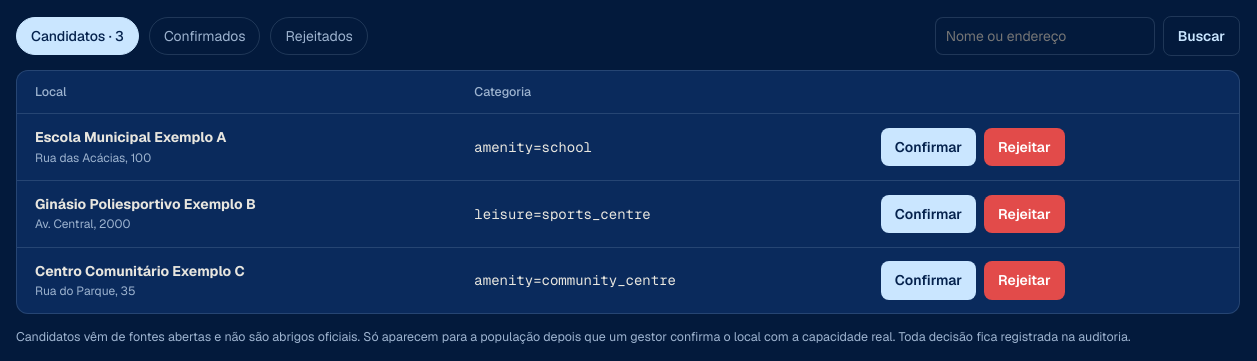
Test: Revisão de abrigos › lista os candidatos, com o total na aba, e filtra pela busca
Expected: the text "Escola Municipal Exemplo A" is shown, 35,128 -> 226,146
Expected: the text "Ginásio Poliesportivo Exemplo B" is shown, 35,195 -> 256,213
In the search field named "Buscar por nome ou endereço": (1045, 36) 935,17 -> 1155,55, type "ginásio"
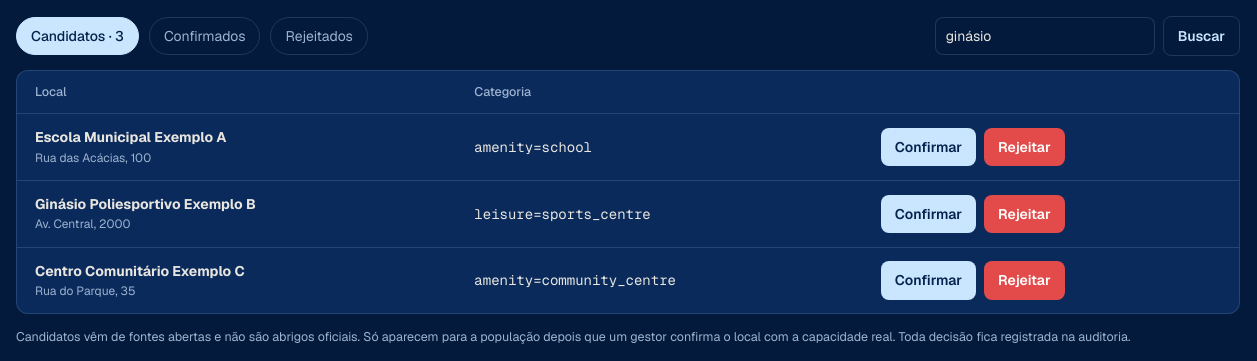
Click the button "Buscar": (1201, 36) 1163,16 -> 1240,56
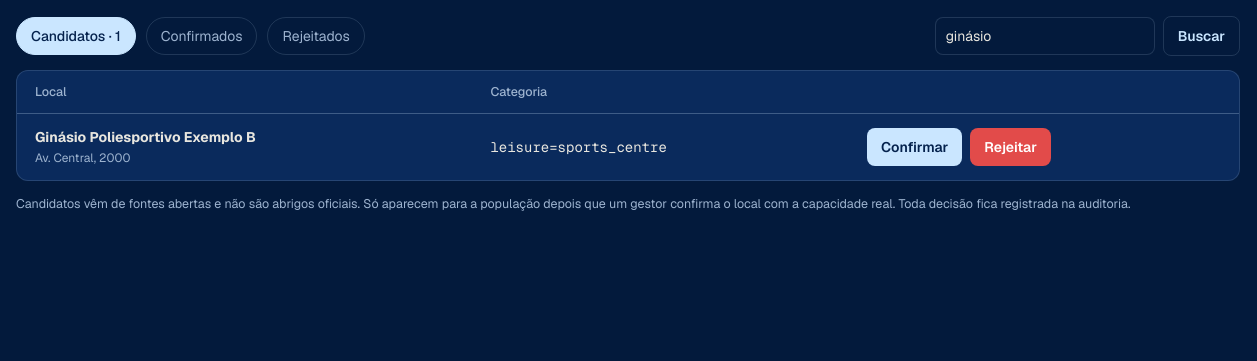
Expected: the text "Ginásio Poliesportivo Exemplo B" is shown, 35,128 -> 256,146
Expected: the text "Escola Municipal Exemplo A" is gone
